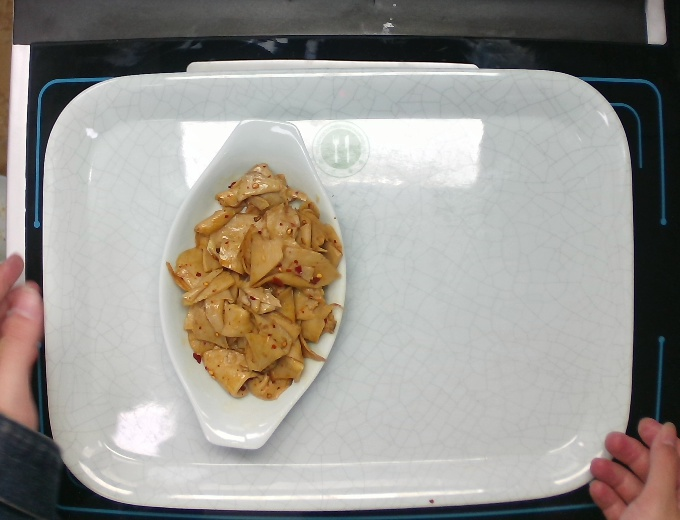JYsf-Yu_Pan: (152, 114, 350, 455)
